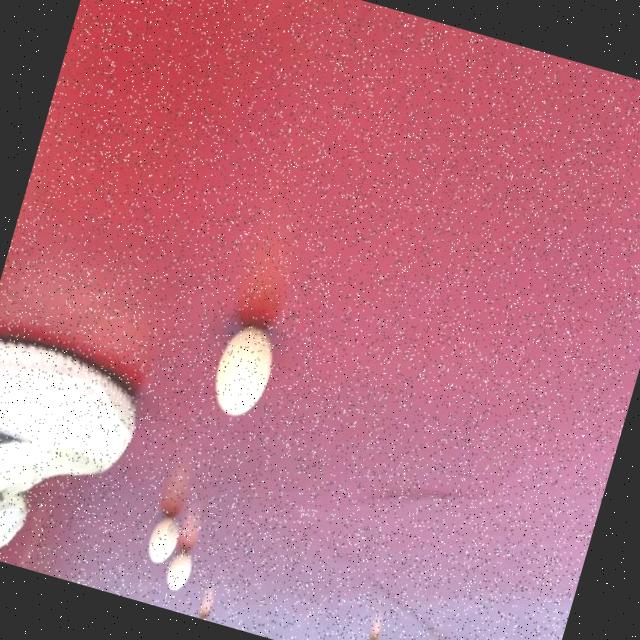ping-pong-ball: (202, 312, 286, 426), (140, 506, 186, 570), (160, 546, 198, 594)
